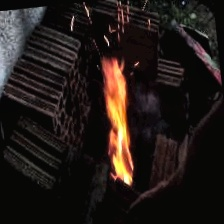fire: (70, 0, 160, 194)
